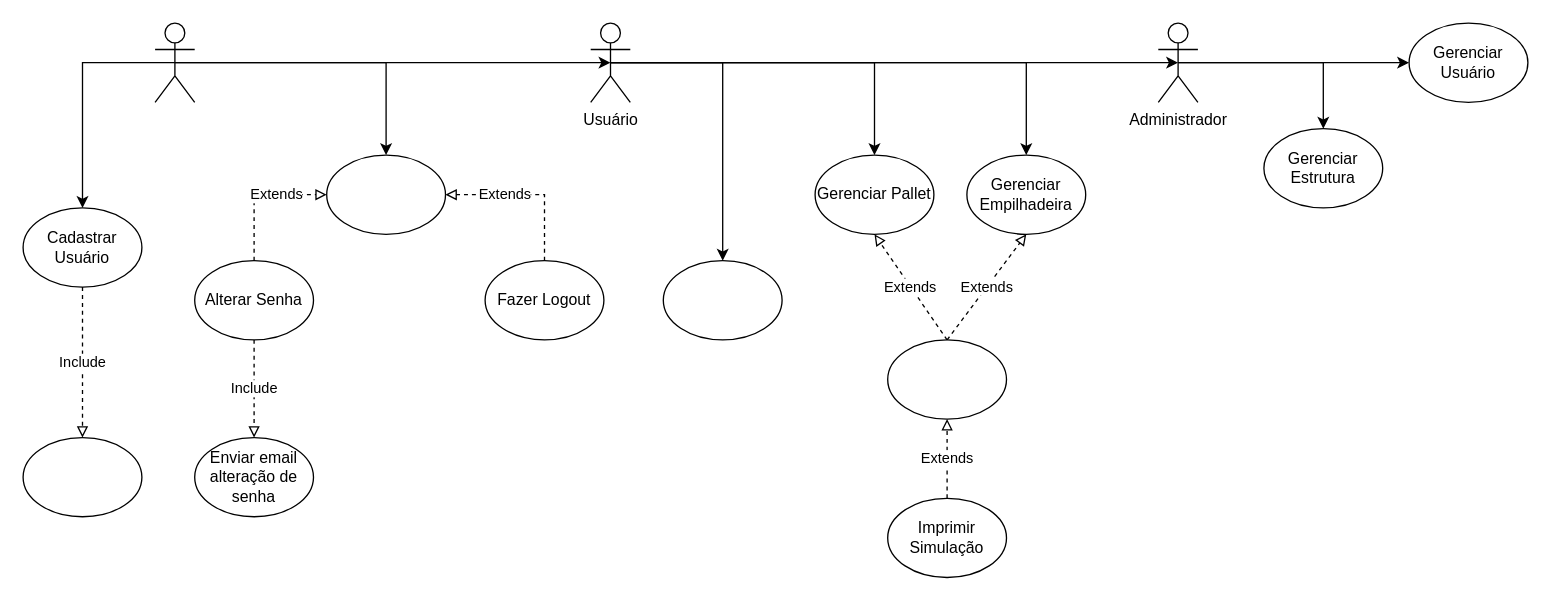
Image size: 1551x601. Some labels were removed from this diagram. The centre of each missing label's shape, as x and y in pixels:
"Confirmar email" belongs at [82,476].
"Editar Perfil" belongs at [722,299].
"Fazer Simulação" belongs at [946,379].
"Login" belongs at [385,194].
"Usuário não Cadastrado" belongs at [174,62].
